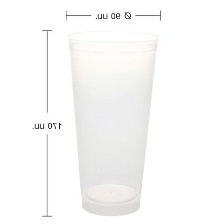glass: (54, 21, 166, 216)
